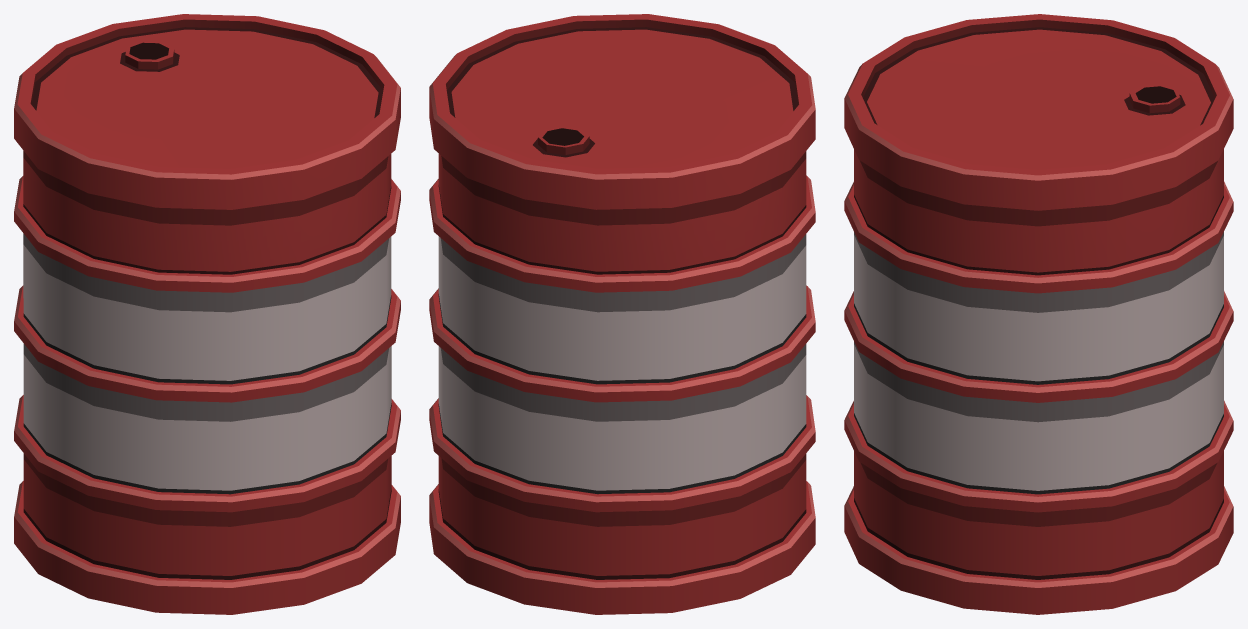
File: Barrel.fbx
The picture shows the model from 3 angles, left to right: view 1: azimuth 30°, elevation 25°; view 2: azimuth 150°, elevation 25°; view 3: azimuth 270°, elevation 25°; orthographic projection.
Visible parts, largest first — view 1: Cylinder.002; view 2: Cylinder.002; view 3: Cylinder.002.
Part boxes in pixels (x1=…): Cylinder.002: x1=14, y1=14, x2=400, y2=614; Cylinder.002: x1=429, y1=14, x2=815, y2=614; Cylinder.002: x1=844, y1=14, x2=1233, y2=614.
Bounding box in the file's own units: 295 × 366 × 295.
